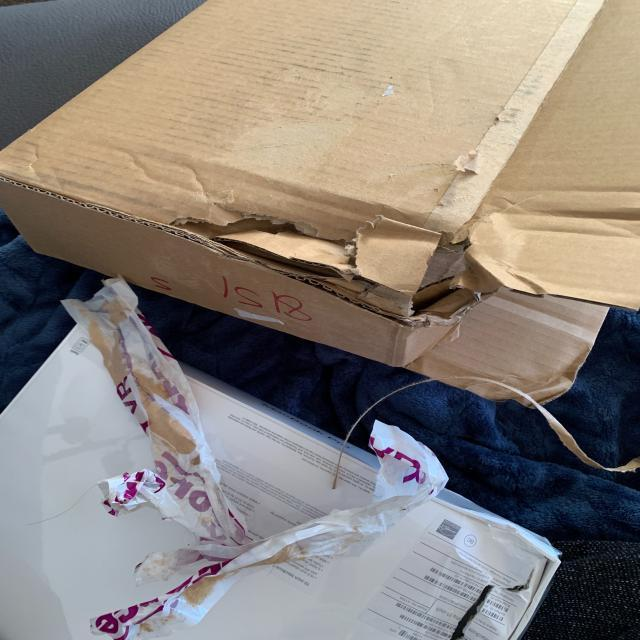hole: (157, 205, 474, 329)
